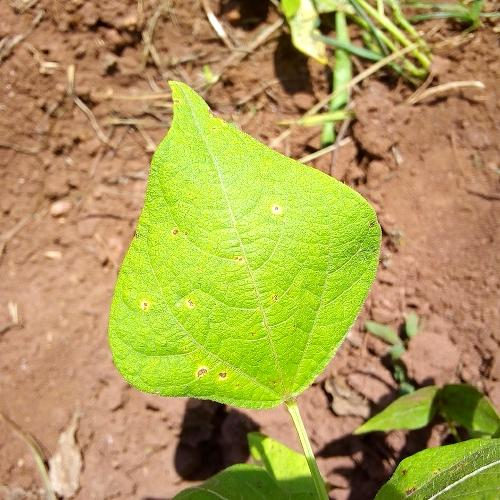hawar: (182, 364, 228, 388), (227, 252, 248, 268), (168, 226, 188, 241), (266, 205, 287, 217), (136, 300, 153, 314), (184, 300, 196, 310), (271, 292, 279, 302)
sehat: (292, 231, 352, 326), (180, 148, 253, 210)
